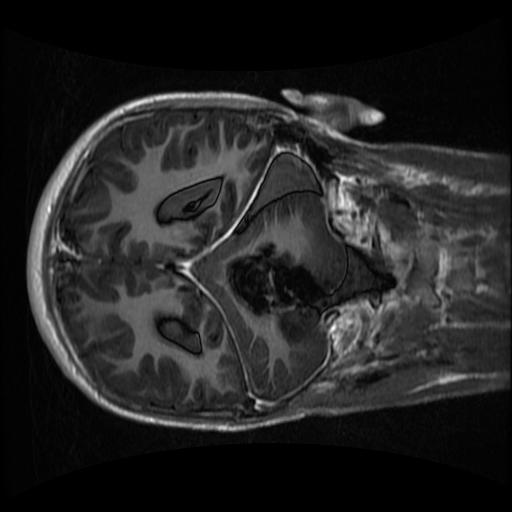glioma: (220, 204, 327, 378)
